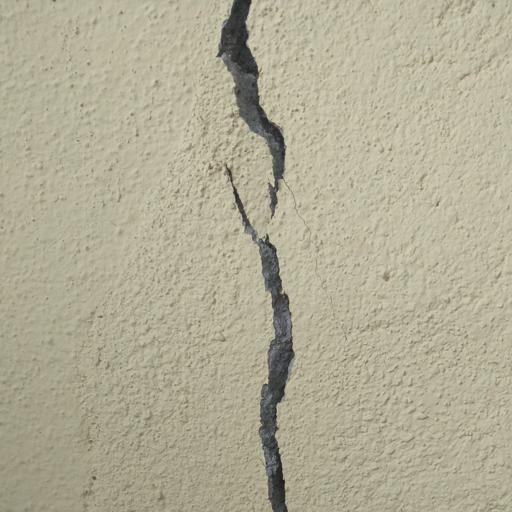major_crack: (203, 149, 299, 512), (207, 0, 311, 214)
